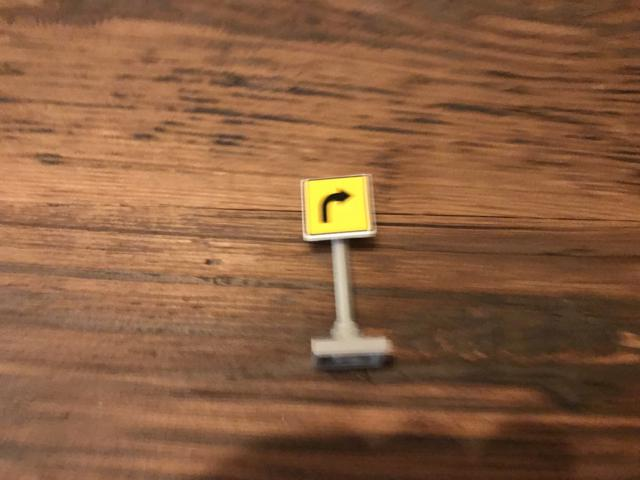fahrtrichtung rechts: (302, 172, 381, 242)
